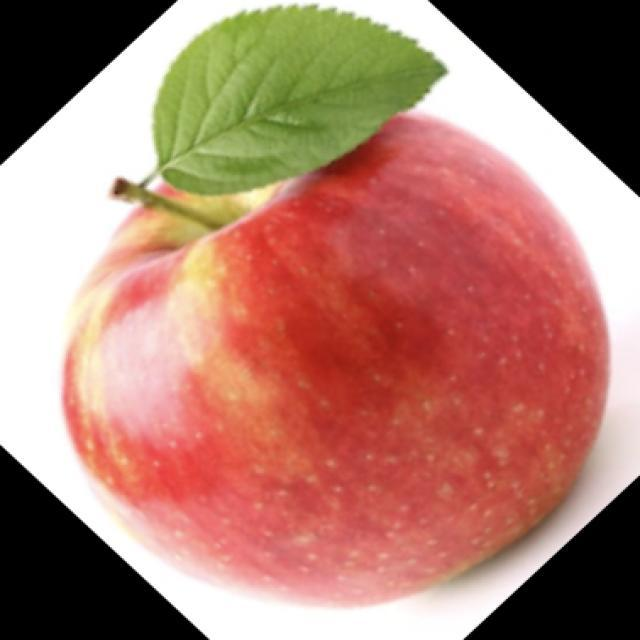Fresh Apple: (90, 123, 607, 595)
